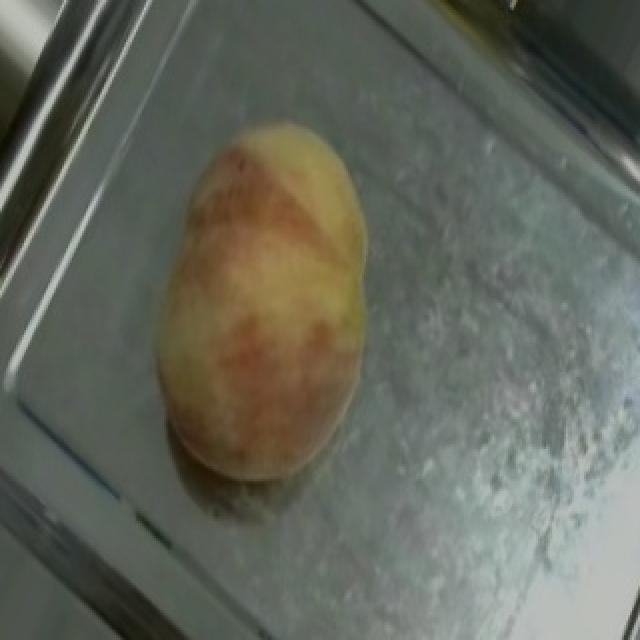Fruit: (116, 82, 422, 464)
